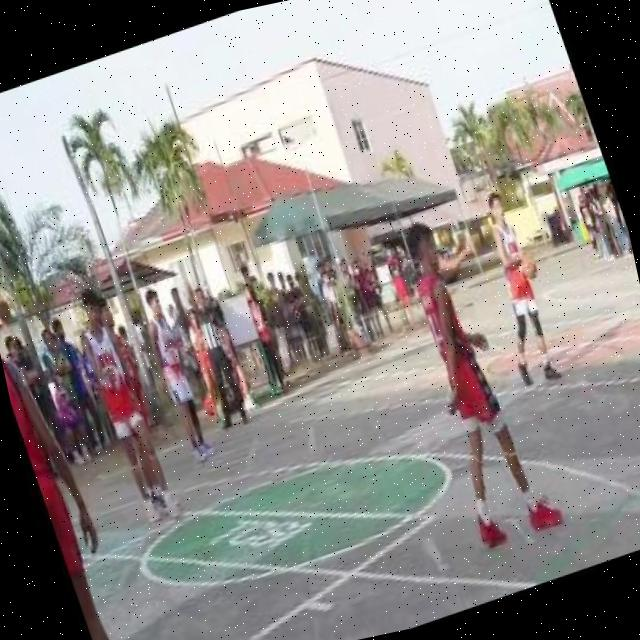ball: (514, 250, 542, 284)
